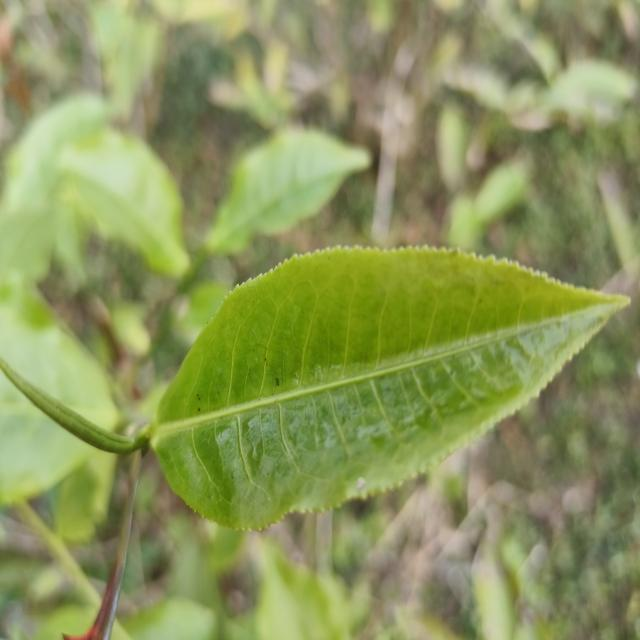Leaf: (149, 247, 627, 529), (206, 129, 370, 253), (0, 94, 107, 279), (60, 129, 189, 276), (0, 276, 119, 431), (0, 369, 94, 504), (474, 163, 527, 224), (437, 105, 467, 190)
